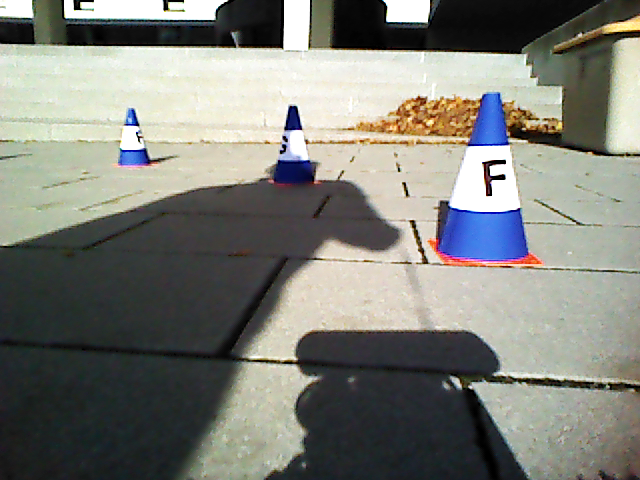bluecone: (444, 93, 527, 257), (273, 106, 313, 182), (119, 109, 150, 165)
